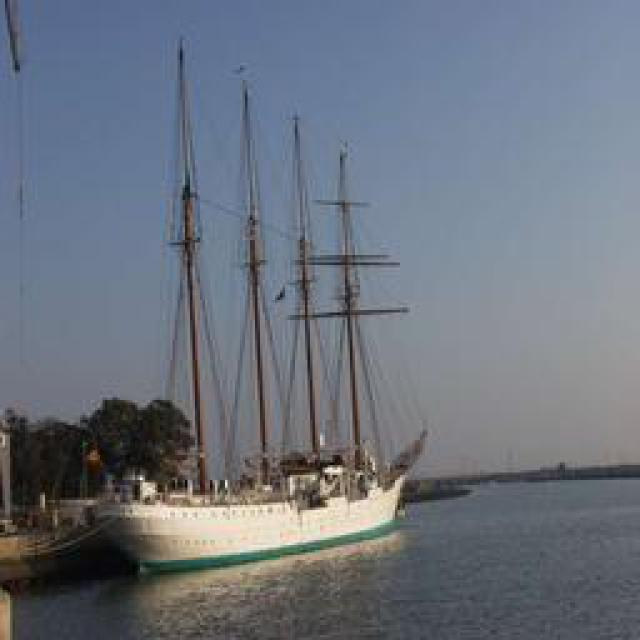Ship: (102, 30, 432, 570)
